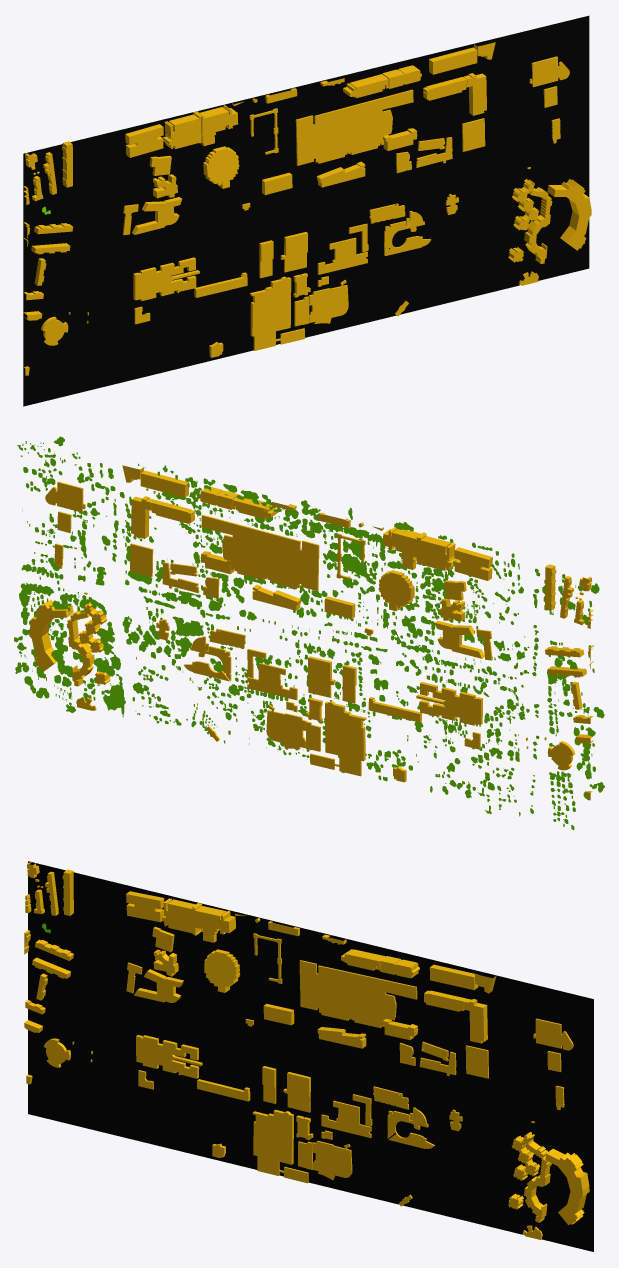
Rendered from new_trees_04.glb.
The picture shows the model from 3 angles, top to bottom: view 1: azimuth 30°, elevation 25°; view 2: azimuth 150°, elevation 25°; view 3: azimuth 330°, elevation 25°; orthographic projection.
Visible parts, largest first — view 1: Layer 04, existing_building - Copy; view 2: existing_building - Copy, new trees, treesurface; view 3: Layer 04, existing_building - Copy.
Part boxes in pixels (x1,y1,x2,y2): Layer 04: (23, 15, 589, 406); existing_building - Copy: (23, 42, 591, 375); existing_building - Copy: (29, 465, 593, 800); new trees: (20, 441, 599, 828); treesurface: (14, 436, 604, 830); Layer 04: (28, 861, 593, 1251); existing_building - Copy: (24, 862, 589, 1239).
Size of the model in its own units: 1035 by 458 by 20.85.
